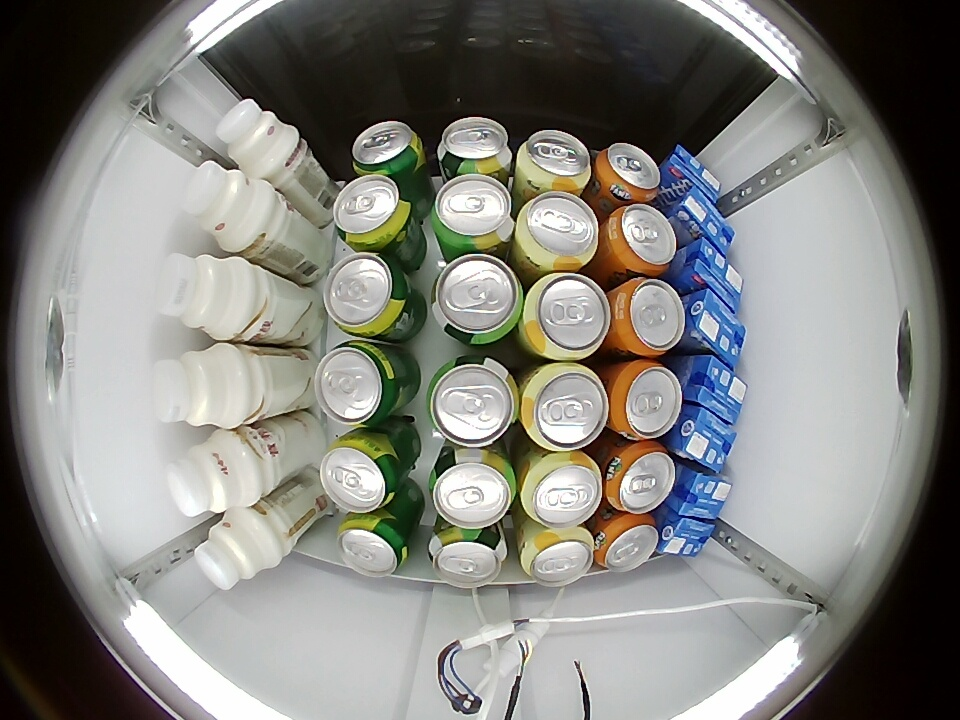fenda: (610, 360, 682, 440), (614, 278, 685, 357), (606, 204, 677, 276), (605, 442, 675, 514), (596, 142, 660, 202), (595, 514, 659, 572)
mangguoxiaolao: (520, 362, 609, 451), (522, 273, 611, 361), (515, 192, 600, 271), (520, 452, 603, 528), (516, 130, 592, 191), (519, 528, 595, 587)
quchenshixiangcao: (426, 355, 520, 448), (431, 254, 524, 345), (429, 449, 517, 528), (429, 174, 515, 252), (426, 527, 509, 588), (437, 117, 513, 175)
weitanai: (683, 288, 747, 366), (680, 237, 745, 310), (683, 356, 749, 425), (674, 408, 739, 473), (673, 188, 736, 254), (663, 143, 722, 203), (670, 466, 733, 522), (658, 514, 717, 558)
xuebi2: (313, 341, 408, 425), (323, 253, 414, 338), (320, 431, 406, 513), (332, 175, 417, 250), (336, 513, 412, 576), (351, 121, 425, 177)
yingyangkuaixian: (156, 253, 253, 341), (150, 343, 249, 428), (182, 162, 275, 252), (166, 429, 261, 517), (195, 508, 282, 590), (216, 99, 302, 179)
